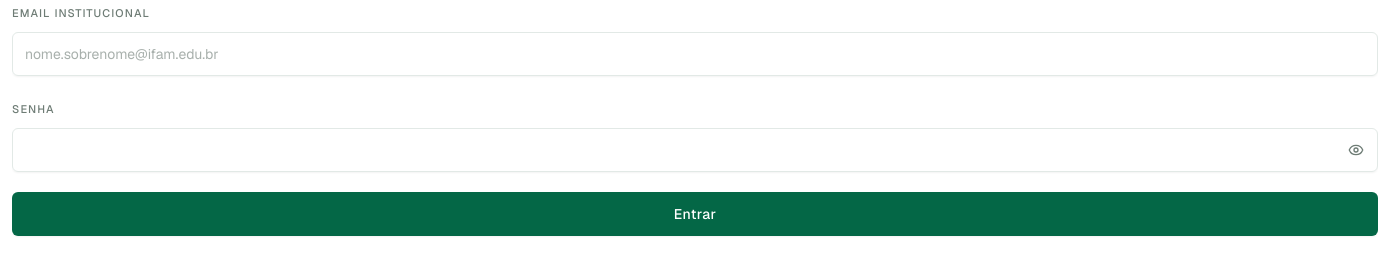
Test: <LoginForm /> › bloqueia submit com senha vazia
Type "joana@ifam.edu.br" into the field labelled "Email institucional".
click(695, 54); type("joana@ifam.edu.br")  # box [12,32,1378,76]
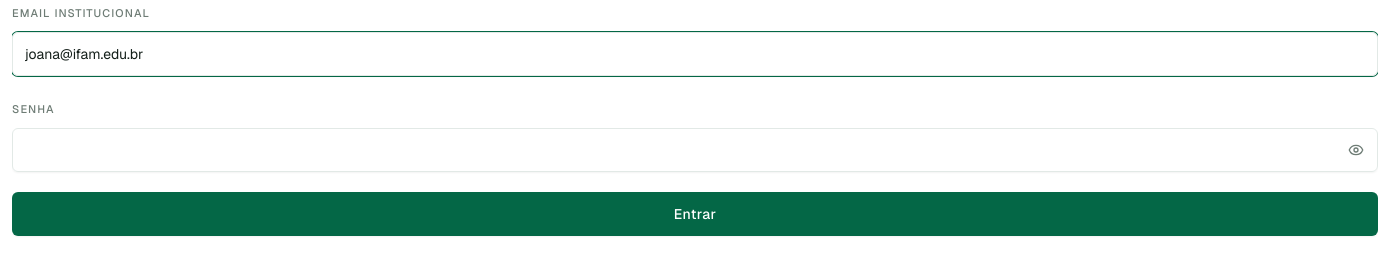
Click the button "Entrar".
click(695, 214)  # box [12,192,1378,236]
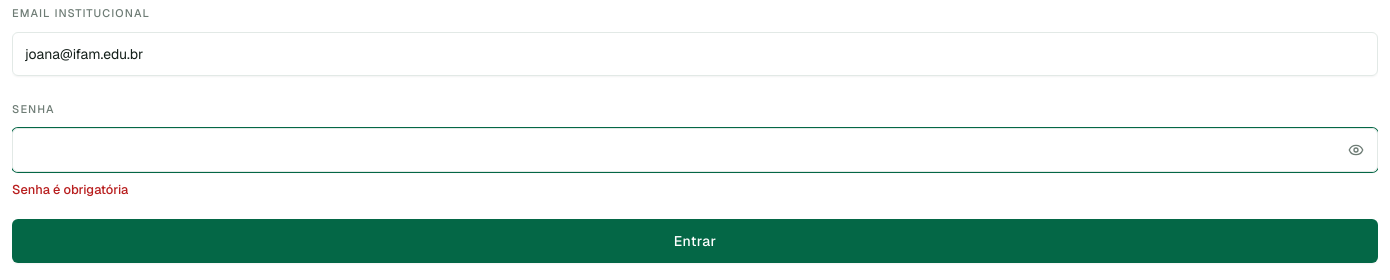
Now the text "Senha é obrigatória" is shown, box [12,181,128,198]
